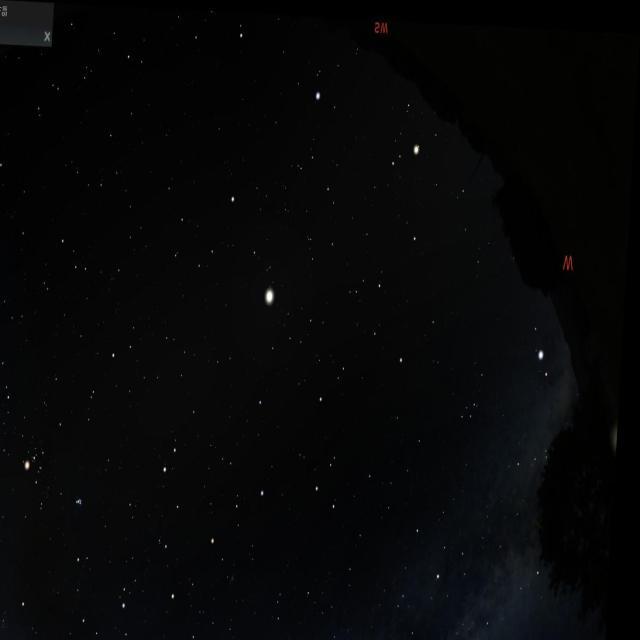cygnus: (418, 541, 548, 640)
pleiades: (77, 486, 92, 508)
taurus: (12, 397, 103, 523)
